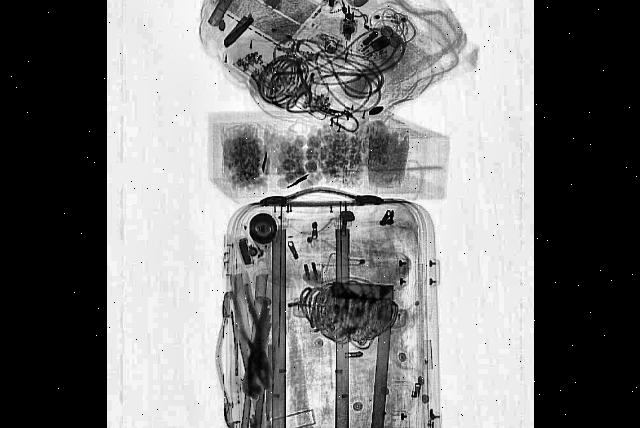Pliers: (230, 279, 276, 395)
